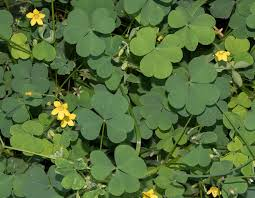clover: (76, 84, 135, 144), (163, 55, 220, 116), (88, 144, 148, 196), (129, 26, 184, 80), (62, 8, 117, 56), (166, 6, 215, 50)
yellow wood sorrel: (26, 8, 46, 27), (51, 101, 70, 120), (59, 112, 76, 128), (215, 50, 230, 62), (206, 186, 221, 197), (142, 189, 159, 198)
